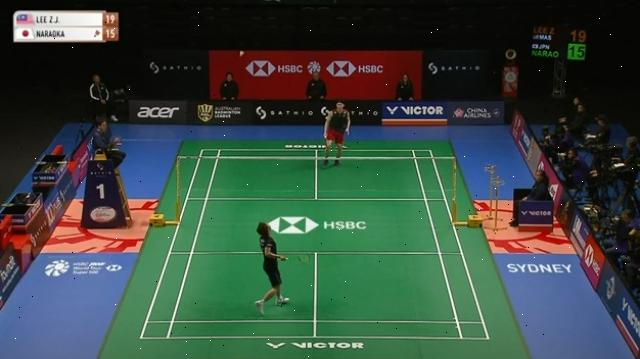Shuttlecock: (238, 47, 248, 58)
